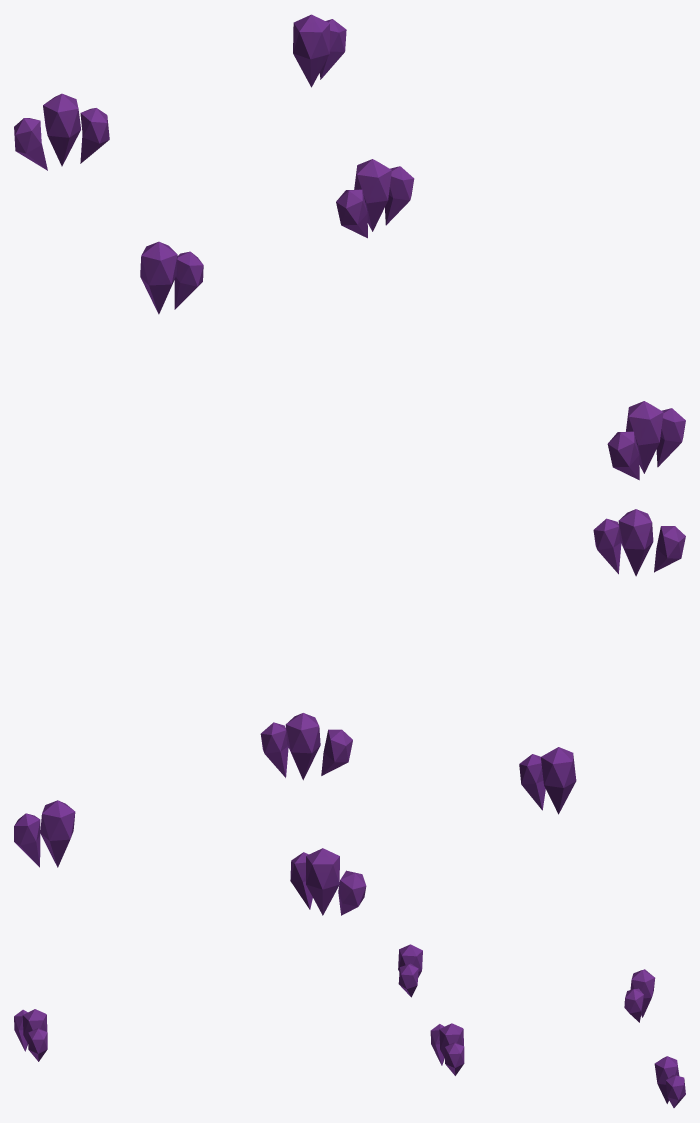
The model's file is 3D-Brotes-Morados.fbx.
3 views of the same model, one above another, from view 1: azimuth 30°, elevation 25°; view 2: azimuth 150°, elevation 25°; view 3: azimuth 270°, elevation 25° (orthographic). The views are drawn at different scales.
Visible parts, largest first — view 1: Brotes-Morados; view 2: Brotes-Morados; view 3: Brotes-Morados.
Part boxes in pixels (<box>): Brotes-Morados: <box>14,14,685,480</box>; Brotes-Morados: <box>14,509,685,915</box>; Brotes-Morados: <box>14,944,685,1107</box>.
Size of the model in its own units: 441 by 76.74 by 965.
Materials: 1 (1 with a texture image).
